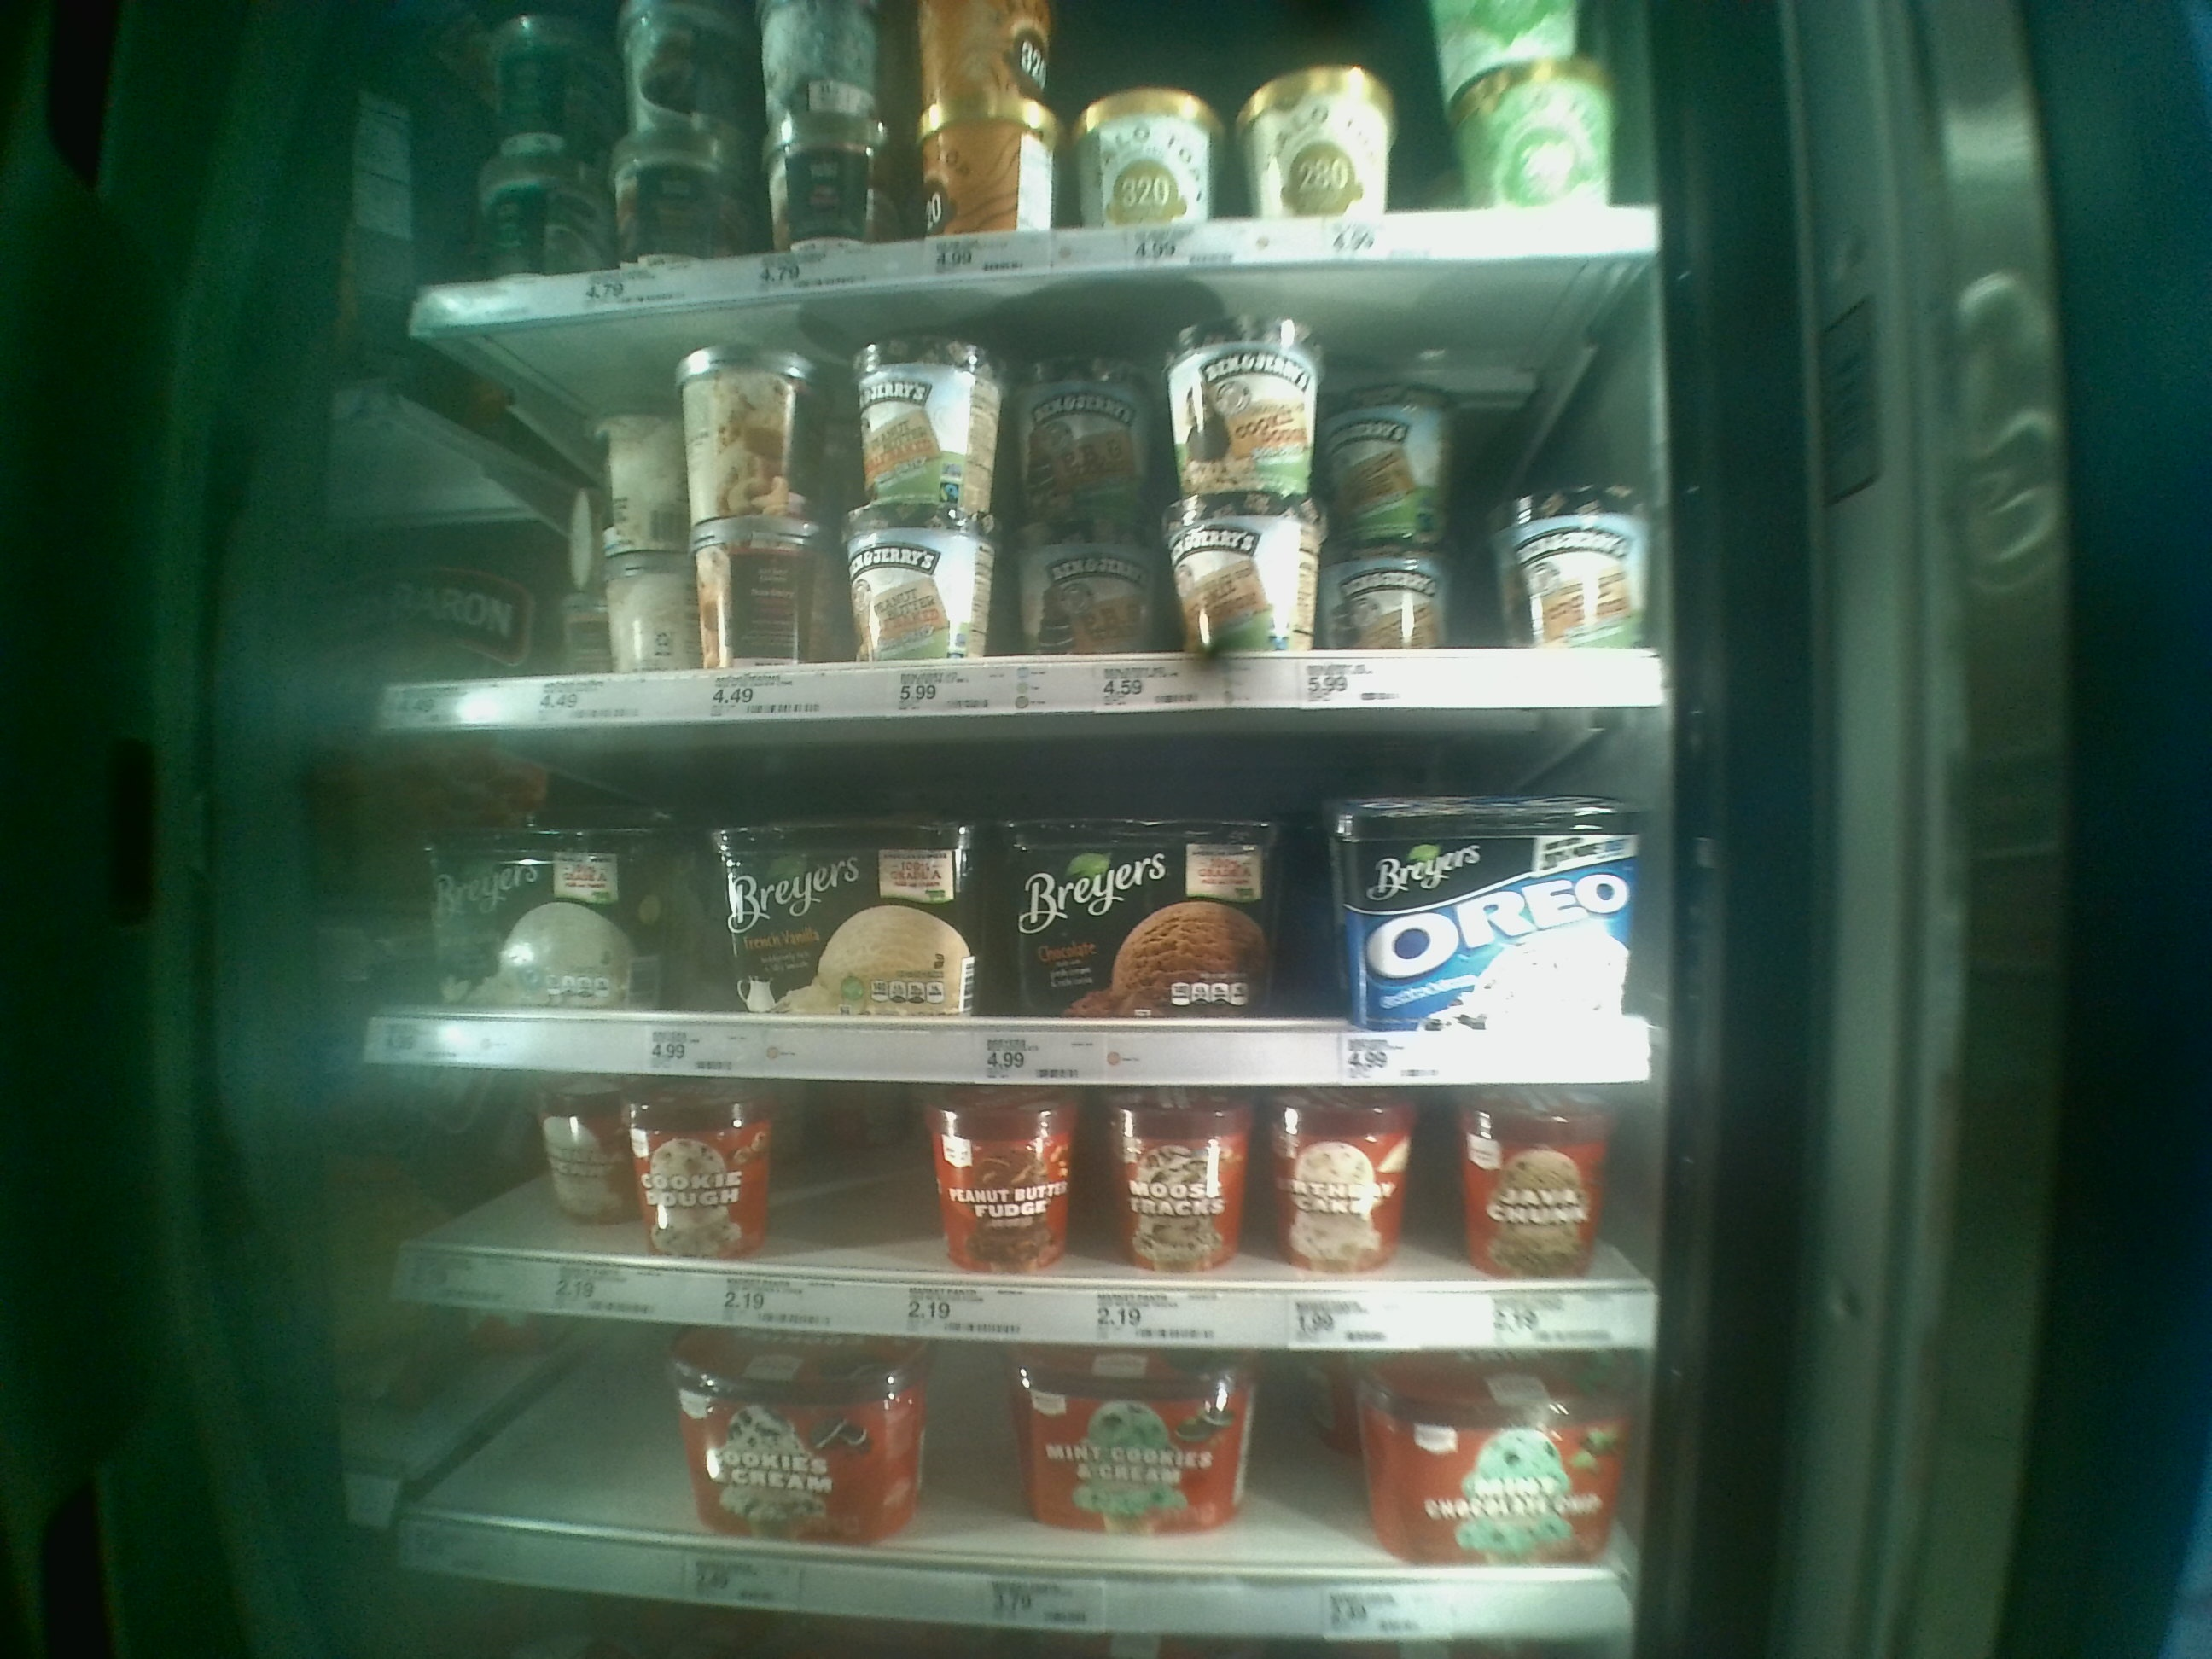shelf: (397, 279, 1674, 695), (371, 706, 1663, 1068), (402, 1317, 1627, 1659), (383, 1068, 1651, 1338)
